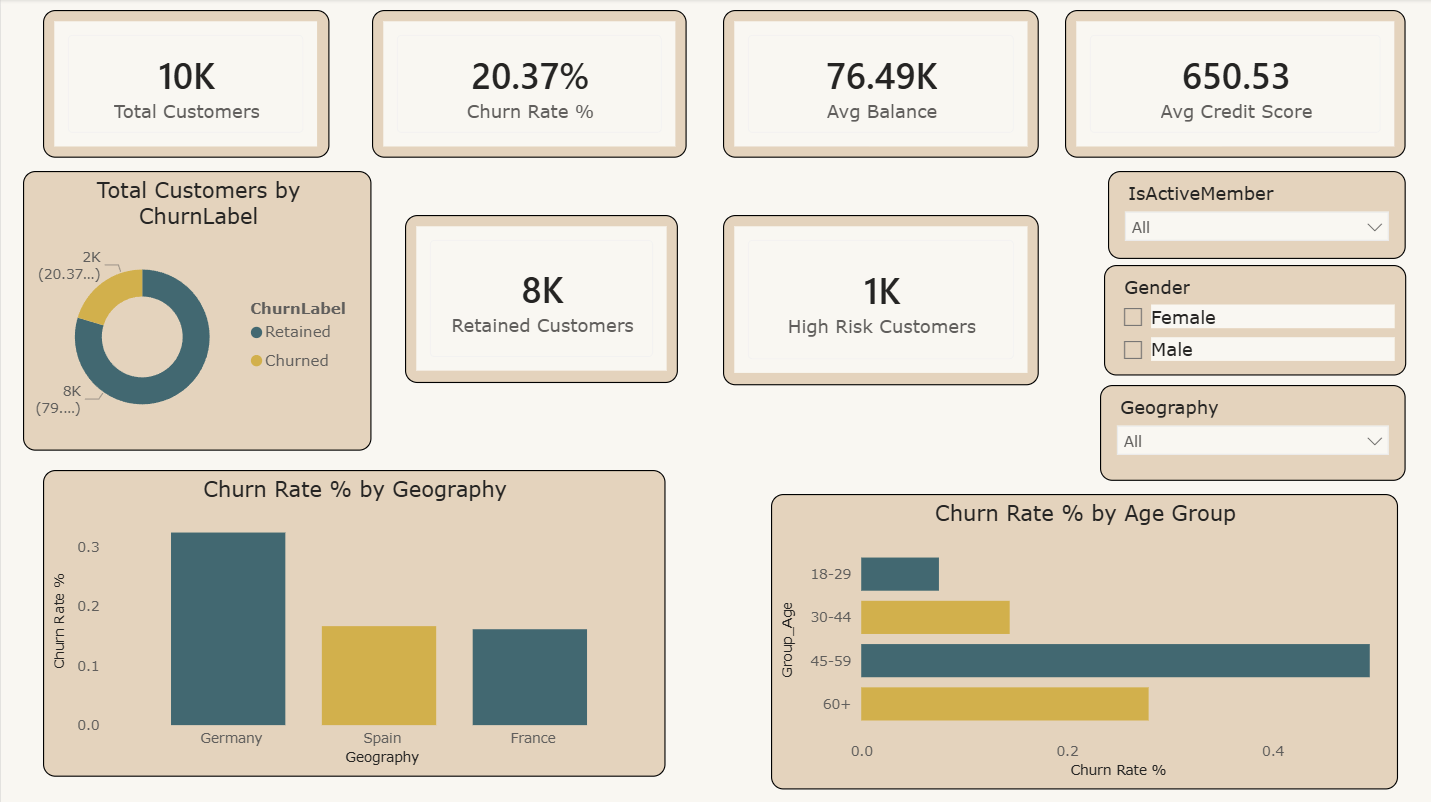

The dashboard page shown, as its layout file describes it:
{"tool":"powerbi","page":{"name":"Executive Overview","canvas":[1280,720],"ordinal":0},"visuals":[{"type":"cardVisual","fields":{"Data":["_Measures.Total Customers"]},"box":[37.2,9.8,253.6,131.2],"z":0},{"type":"cardVisual","fields":{"Data":["_Measures.Churn Rate %"]},"box":[329,9.8,279.3,131.2],"z":1000},{"type":"cardVisual","fields":{"Data":["_Measures.Avg Balance"]},"box":[640.2,9.8,280.2,131.2],"z":2000},{"type":"cardVisual","fields":{"Data":["_Measures.Avg Credit Score"]},"box":[943.4,9.8,302.4,131.2],"z":3000},{"type":"donutChart","fields":{"Category":["Churn_Modelling.ChurnLabel"],"Y":["_Measures.Total Customers"]},"box":[19.5,152.5,309.5,248.3],"z":4000},{"type":"columnChart","fields":{"Category":["Churn_Modelling.Geography"],"Y":["_Measures.Churn Rate %"]},"box":[37.2,417.6,551.5,283.7],"z":5000},{"type":"barChart","title":"Churn Rate % by Age Group","fields":{"Y":["_Measures.Churn Rate %"],"Category":["Churn_Modelling.Group_Age"]},"box":[682.8,417.6,556,283.7],"z":6000},{"type":"slicer","fields":{"Values":["Churn_Modelling.Geography"]},"box":[974.5,296.2,271.3,92.2],"z":7000},{"type":"slicer","fields":{"Values":["Churn_Modelling.Gender"]},"box":[652.6,205.7,267.8,110.8],"z":8000},{"type":"slicer","fields":{"Values":["Churn_Modelling.IsActiveMember"]},"box":[981.6,166.7,264.2,94.9],"z":9000},{"type":"cardVisual","fields":{"Data":["_Measures.Retained Customers"]},"box":[366.2,193.3,242.1,149],"z":10000}]}

Visuals, with their boxes in screenshot pixels (x1, y1, x2, y2), scaled from the page's 1280x720 canvas onto the 1431x802 screenshot:
cardVisual - _Measures.Total Customers: (left=42, top=11, right=325, bottom=157)
cardVisual - _Measures.Churn Rate %: (left=368, top=11, right=680, bottom=157)
cardVisual - _Measures.Avg Balance: (left=716, top=11, right=1029, bottom=157)
cardVisual - _Measures.Avg Credit Score: (left=1055, top=11, right=1393, bottom=157)
donutChart - Churn_Modelling.ChurnLabel x _Measures.Total Customers: (left=22, top=170, right=368, bottom=446)
columnChart - Churn_Modelling.Geography x _Measures.Churn Rate %: (left=42, top=465, right=658, bottom=781)
"Churn Rate % by Age Group" barChart: (left=763, top=465, right=1385, bottom=781)
slicer - Churn_Modelling.Geography: (left=1089, top=330, right=1393, bottom=433)
slicer - Churn_Modelling.Gender: (left=730, top=229, right=1029, bottom=353)
slicer - Churn_Modelling.IsActiveMember: (left=1097, top=186, right=1393, bottom=291)
cardVisual - _Measures.Retained Customers: (left=409, top=215, right=680, bottom=381)
